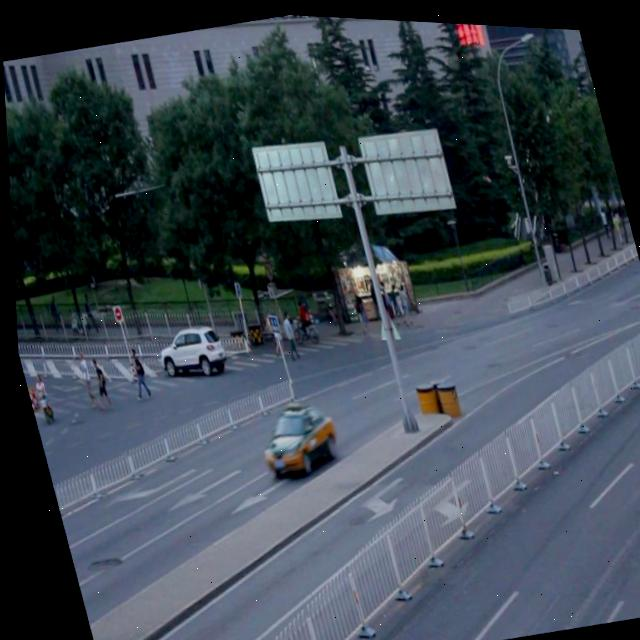car: (246, 393, 340, 480), (151, 316, 226, 381)
